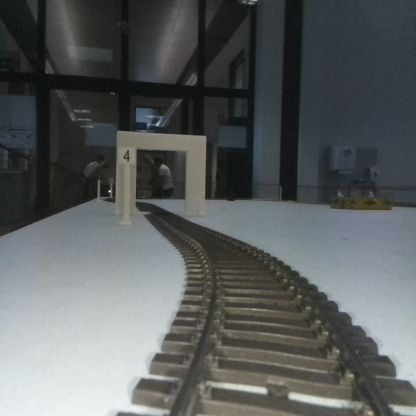white-info-4: (119, 146, 135, 224)
